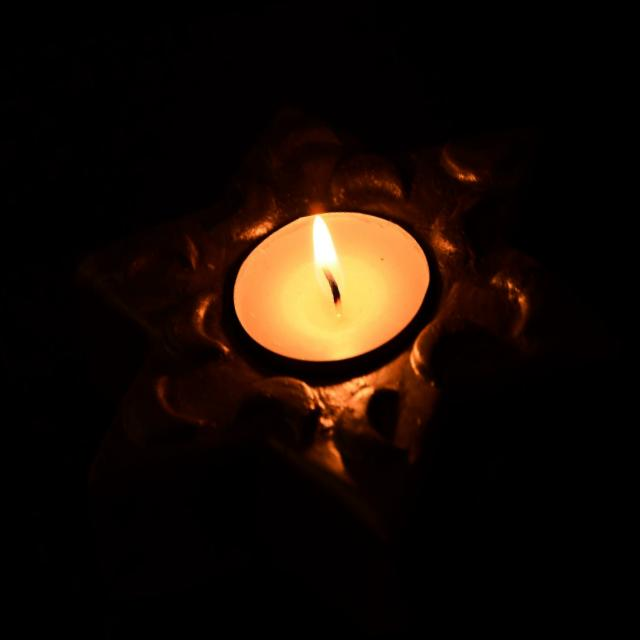Fire_Save: (218, 192, 444, 381), (304, 210, 348, 314)
